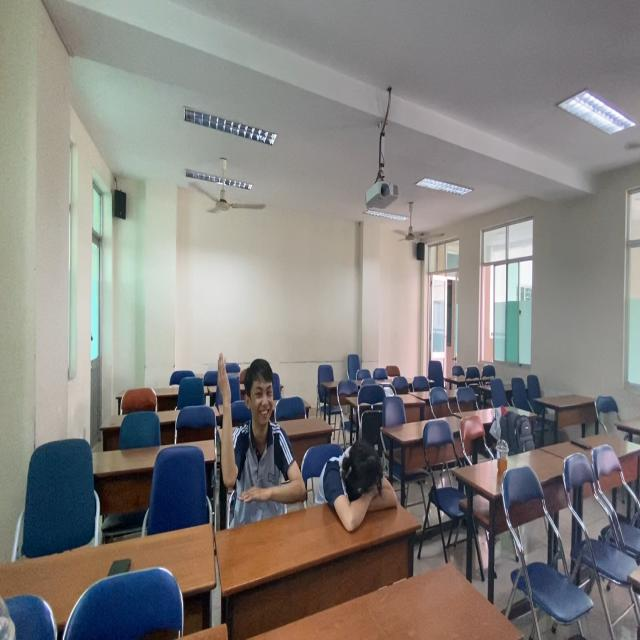raise_hand: (214, 348, 310, 527)
sleep: (317, 427, 401, 546)
